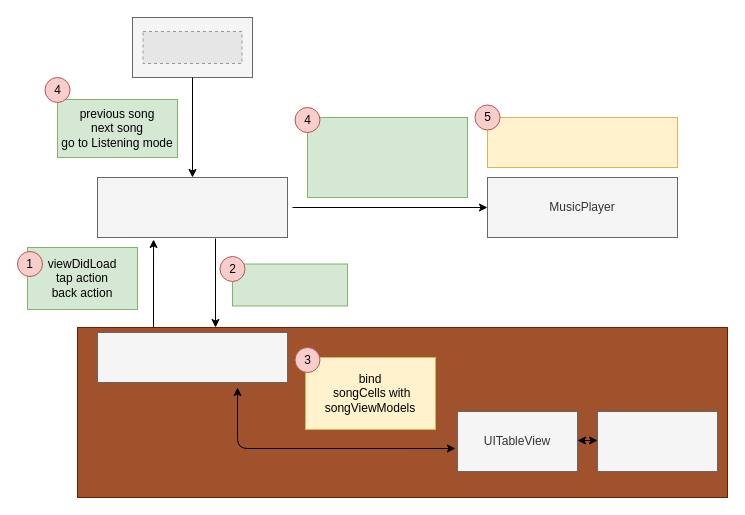
This 745x515 diagram has some shape labels left out. Grey dashed boxes stand in for pictures. The box of each missing label's shape, as (x1, y1, x2, y2) in pixels:
Alters songViewModels: (486, 116, 678, 168)
MeditationViewController: (96, 332, 288, 382)
MeditationViewModel: (96, 176, 288, 238)
previous song next song go to Listening mode go to Picking mode tap action: (306, 116, 468, 198)
SongCell: (596, 410, 718, 472)
update songViewModels: (232, 263, 348, 306)
